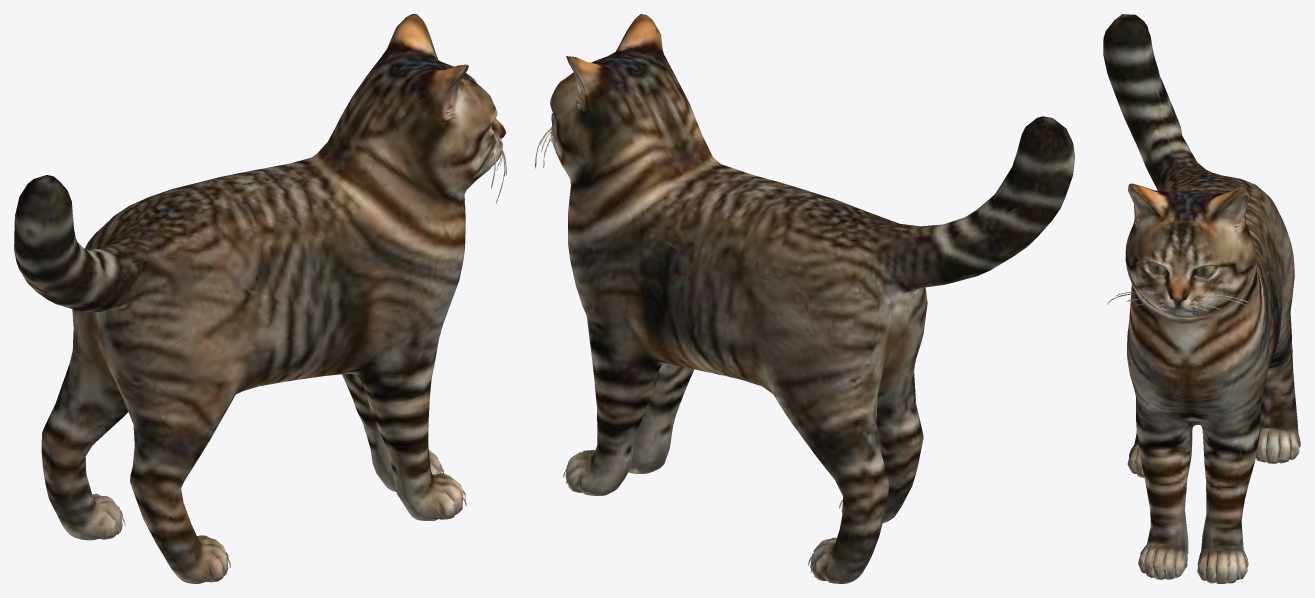
File: STEPANCAT-lo.glb
The picture shows the model from 3 angles, left to right: view 1: azimuth 30°, elevation 25°; view 2: azimuth 150°, elevation 25°; view 3: azimuth 270°, elevation 25°; orthographic projection. The views are drawn at different scales.
Visible parts, largest first — view 1: fit; view 2: fit; view 3: fit.
Boxes of the visible parts, box(x1,y1,x2,y2) form: fit: box(14, 14, 506, 583); fit: box(535, 14, 1074, 583); fit: box(1103, 14, 1300, 583).
Size of the model in its own units: 1.18 by 0.9996 by 0.4572.
1 material, 1 textured.
